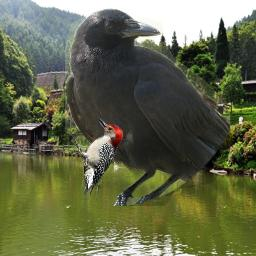Crow: (65, 8, 230, 206)
Woodpecker: (68, 116, 125, 200)
